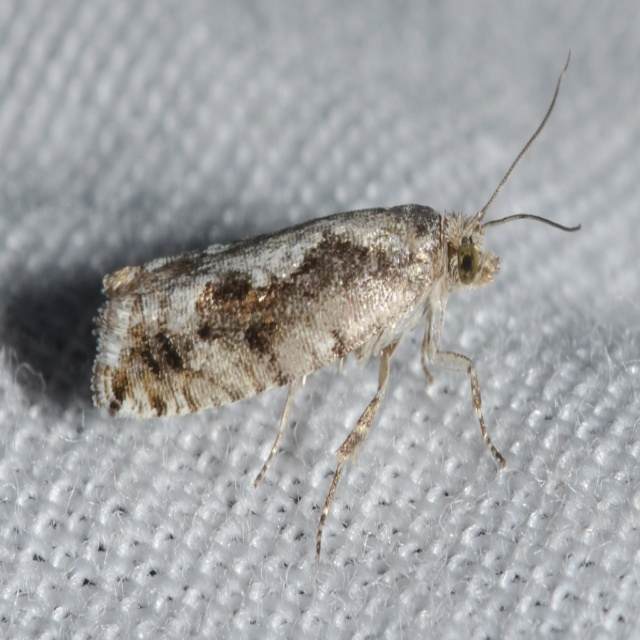Moths and butterflies: (88, 38, 584, 565)
